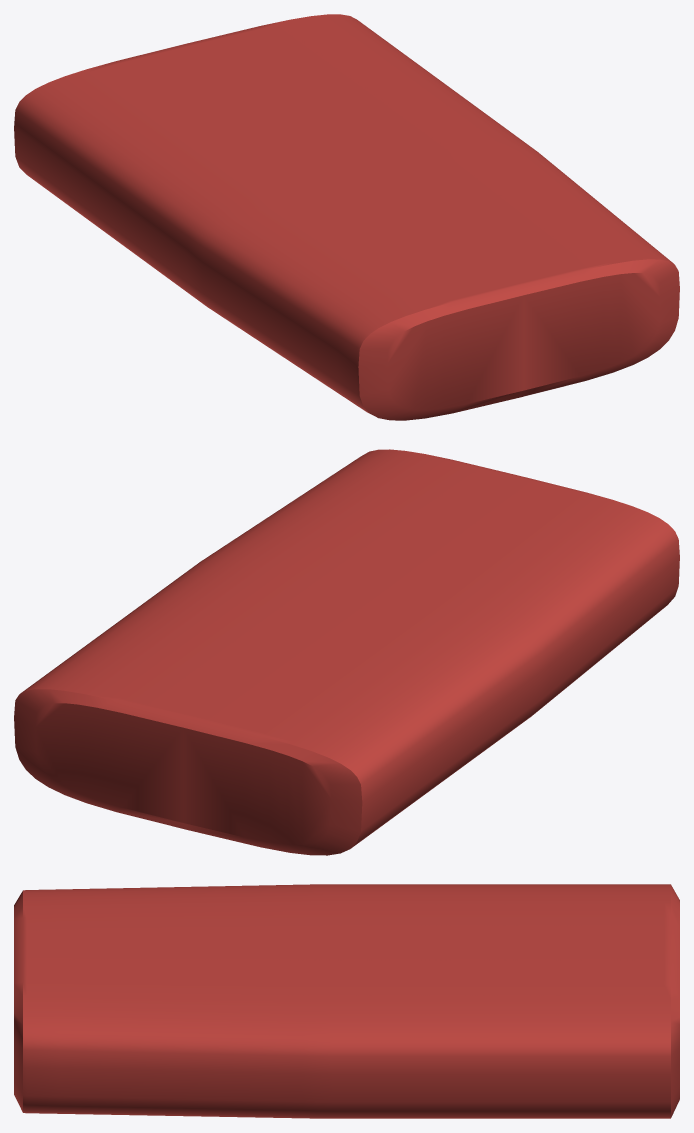
File: tracker.glb
The picture shows the model from 3 angles, top to bottom: view 1: azimuth 30°, elevation 25°; view 2: azimuth 150°, elevation 25°; view 3: azimuth 270°, elevation 25°; orthographic projection. The views are drawn at different scales.
Visible parts, largest first — view 1: lod0; view 2: lod0; view 3: lod0.
Part boxes in pixels (<box>): lod0: <box>14,14,679,420</box>; lod0: <box>14,449,679,855</box>; lod0: <box>14,884,679,1118</box>.
Size of what is drawn, in the model's own units: 0.26 by 0.08 by 0.44.
